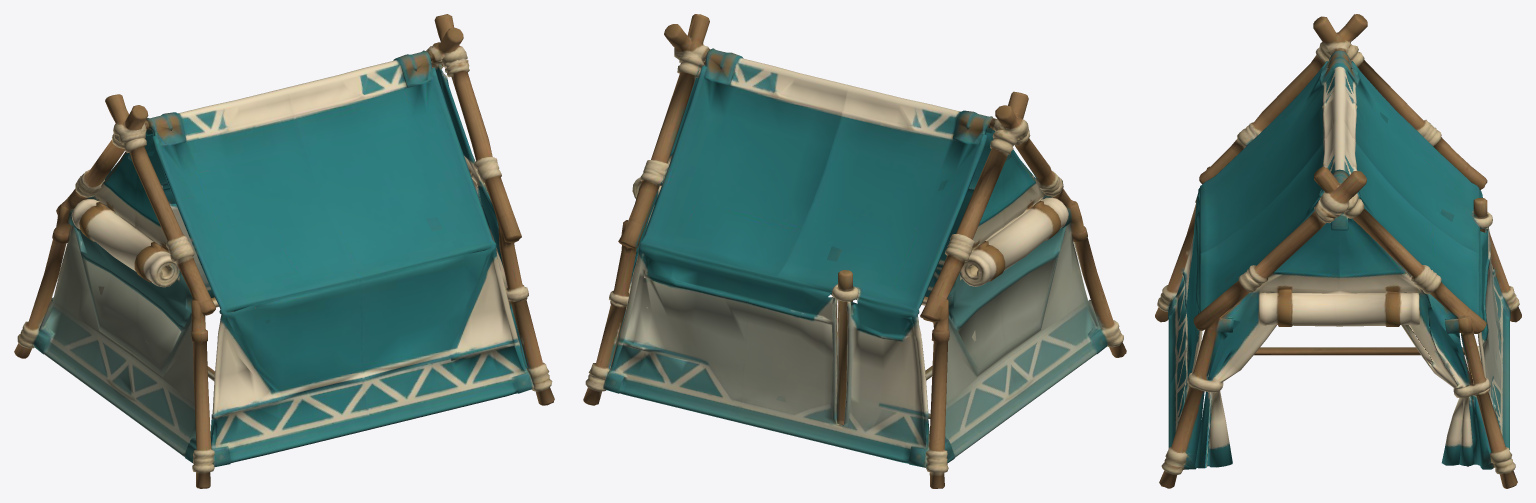
File: pack-camping-tent.glb
3 views of the same model, side by side, from view 1: azimuth 30°, elevation 25°; view 2: azimuth 150°, elevation 25°; view 3: azimuth 270°, elevation 25° (orthographic). The views are drawn at different scales.
Parts seen in each view (by area): view 1: tripo_node_cc2b1939-b944-4039-96a6-53920fe6b649; view 2: tripo_node_cc2b1939-b944-4039-96a6-53920fe6b649; view 3: tripo_node_cc2b1939-b944-4039-96a6-53920fe6b649.
Part boxes in pixels (box(x1,y1,x2,y2)): tripo_node_cc2b1939-b944-4039-96a6-53920fe6b649: box(14, 14, 554, 488); tripo_node_cc2b1939-b944-4039-96a6-53920fe6b649: box(583, 14, 1126, 488); tripo_node_cc2b1939-b944-4039-96a6-53920fe6b649: box(1155, 14, 1521, 488).
Size of the model in its own units: 0.978 by 0.8249 by 0.8747.
1 material, 1 textured.
